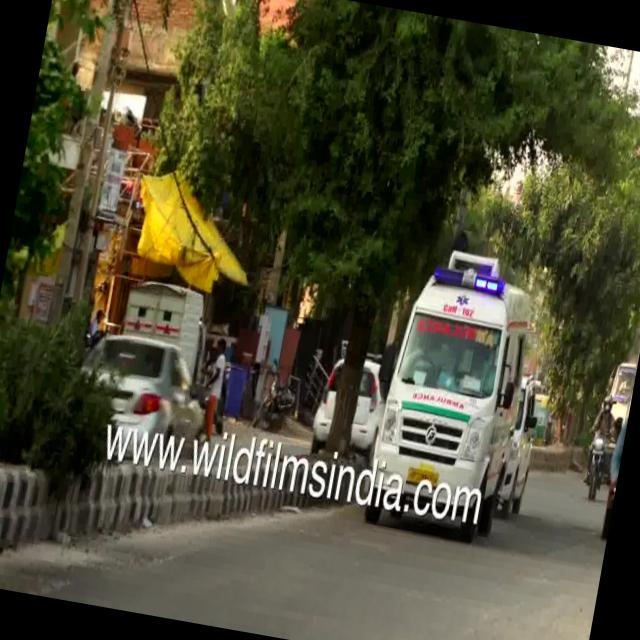ambulance: (364, 228, 558, 499)
